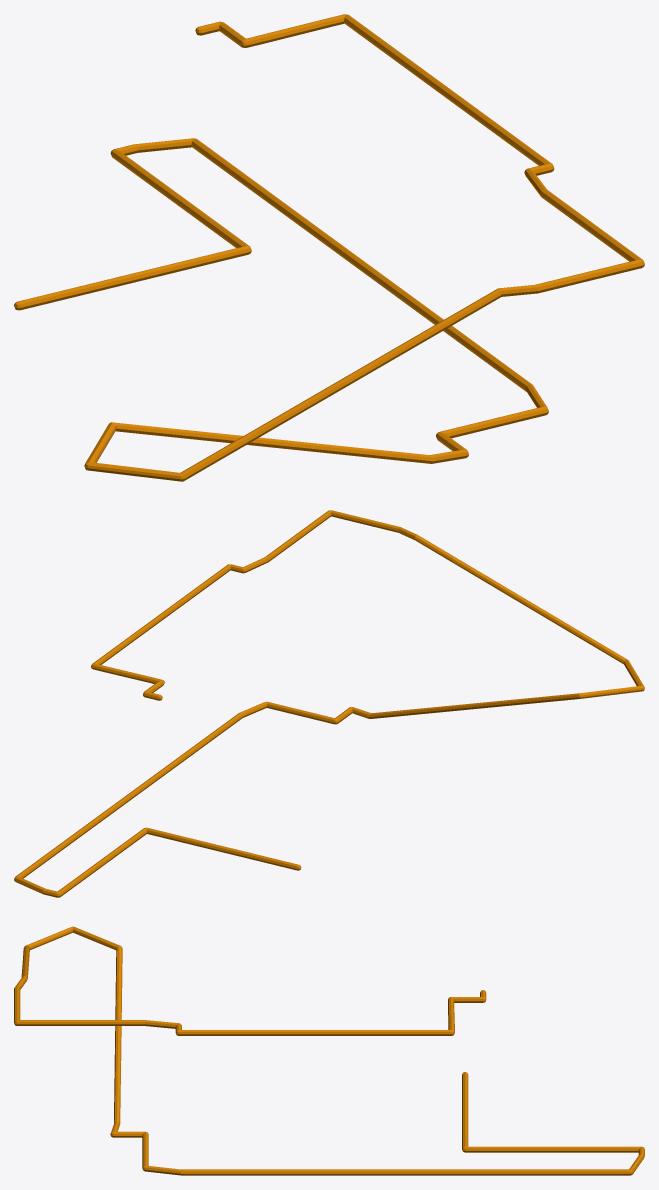
3 renders of one model, top to bottom at view 1: azimuth 30°, elevation 25°; view 2: azimuth 150°, elevation 25°; view 3: azimuth 270°, elevation 25°, orthographic. The views are drawn at different scales.
Size of the model in its own units: 1319 by 520 by 1966.
